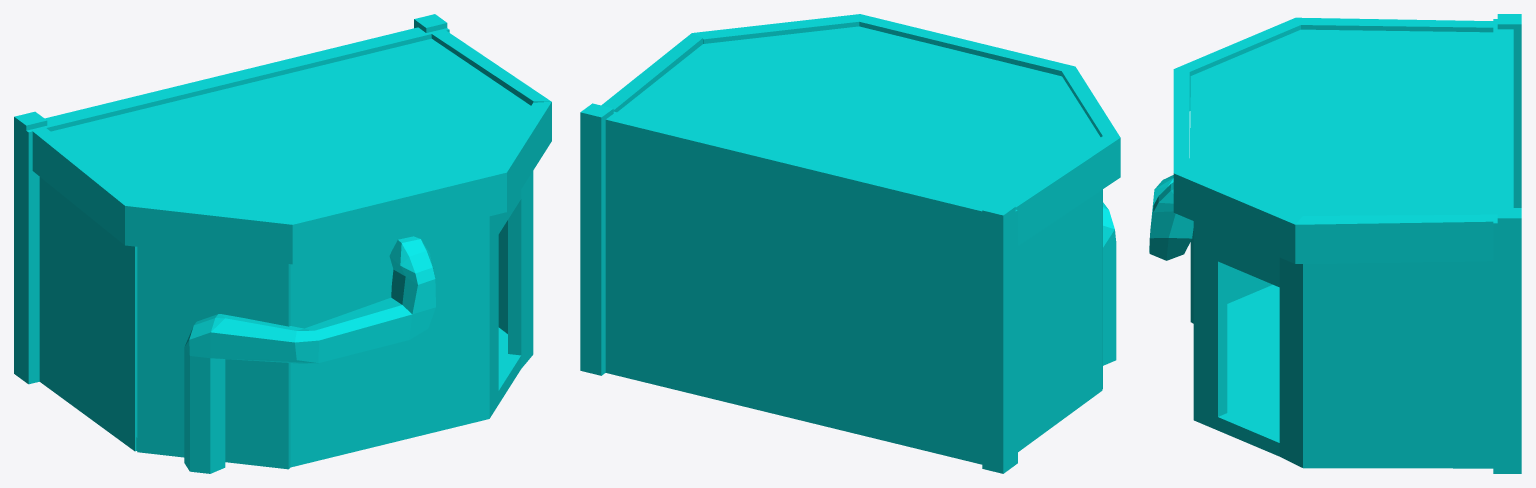
Rendered from SM_Bld_Building_10_Collision.fbx.
3 views of the same model, side by side, from view 1: azimuth 30°, elevation 25°; view 2: azimuth 150°, elevation 25°; view 3: azimuth 270°, elevation 25° (orthographic).
Parts seen in each view (by area): view 1: SM_Bld_Building_10_Collision; view 2: SM_Bld_Building_10_Collision; view 3: SM_Bld_Building_10_Collision.
Part boxes in pixels (box(x1,y1,x2,y2)): SM_Bld_Building_10_Collision: box(14, 14, 551, 473); SM_Bld_Building_10_Collision: box(580, 14, 1120, 473); SM_Bld_Building_10_Collision: box(1149, 14, 1521, 473).
Bounding box in the file's own units: 564 × 325 × 429.
